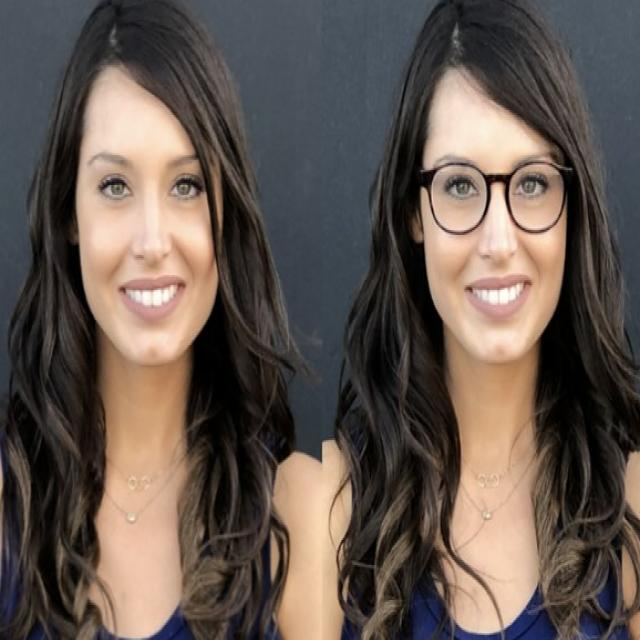Glasses: (416, 157, 573, 239)
